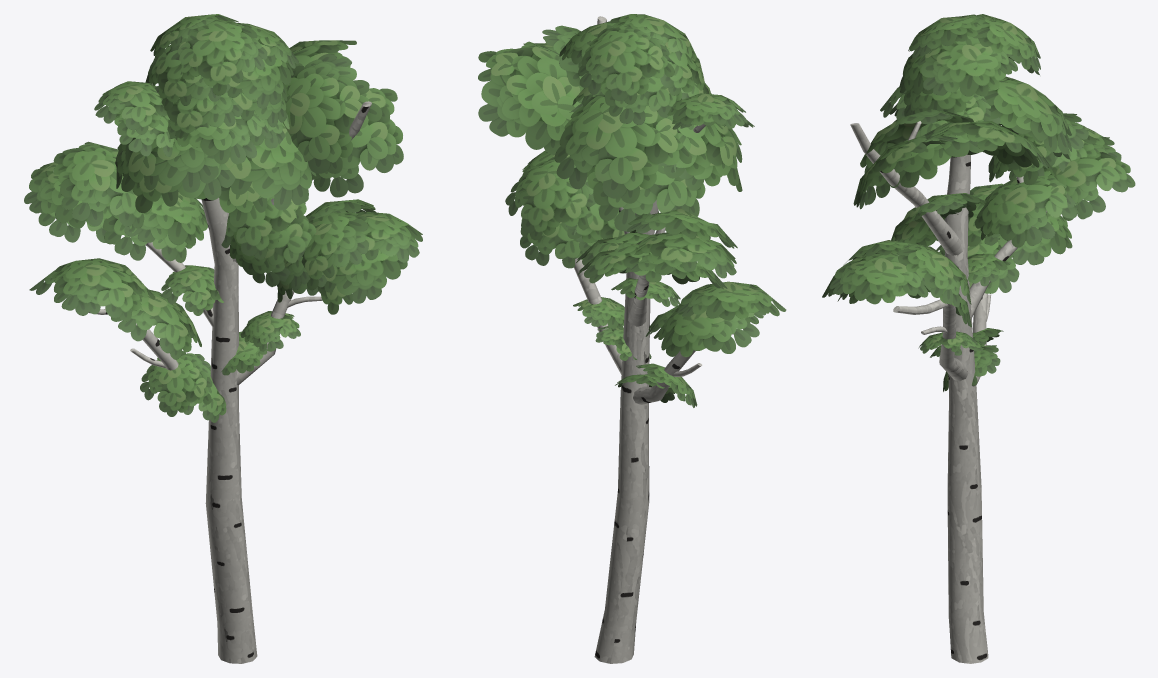
File: tree_birch_a.glb
3 renders of one model, left to right at view 1: azimuth 30°, elevation 25°; view 2: azimuth 150°, elevation 25°; view 3: azimuth 270°, elevation 25°, orthographic. The views are drawn at different scales.
Visible parts, largest first — view 1: tree_birch_a; view 2: tree_birch_a; view 3: tree_birch_a.
Part boxes in pixels (bbox=[...]): tree_birch_a: bbox=[24, 14, 422, 663]; tree_birch_a: bbox=[478, 14, 786, 663]; tree_birch_a: bbox=[822, 14, 1135, 663].
Bounding box in the file's own units: 4.89 × 9.48 × 4.46.
Materials: 2 (2 with a texture image).
